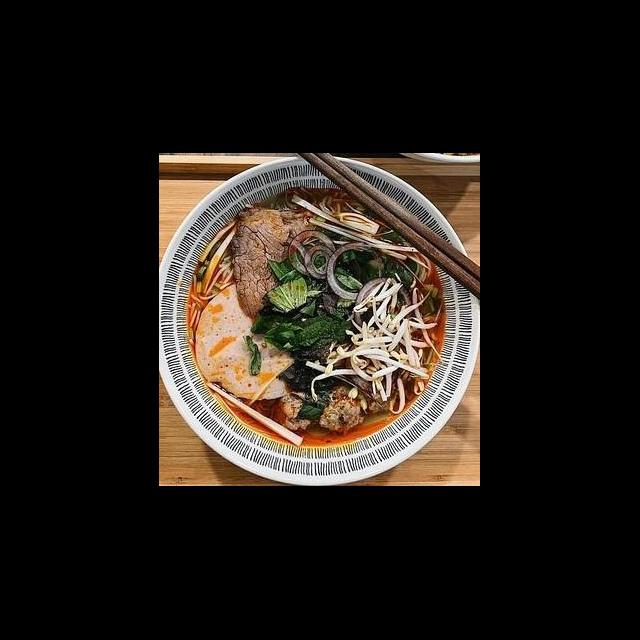bun: (185, 248, 238, 346)
bun bo: (167, 179, 480, 486)
thit bo: (230, 202, 314, 321)
